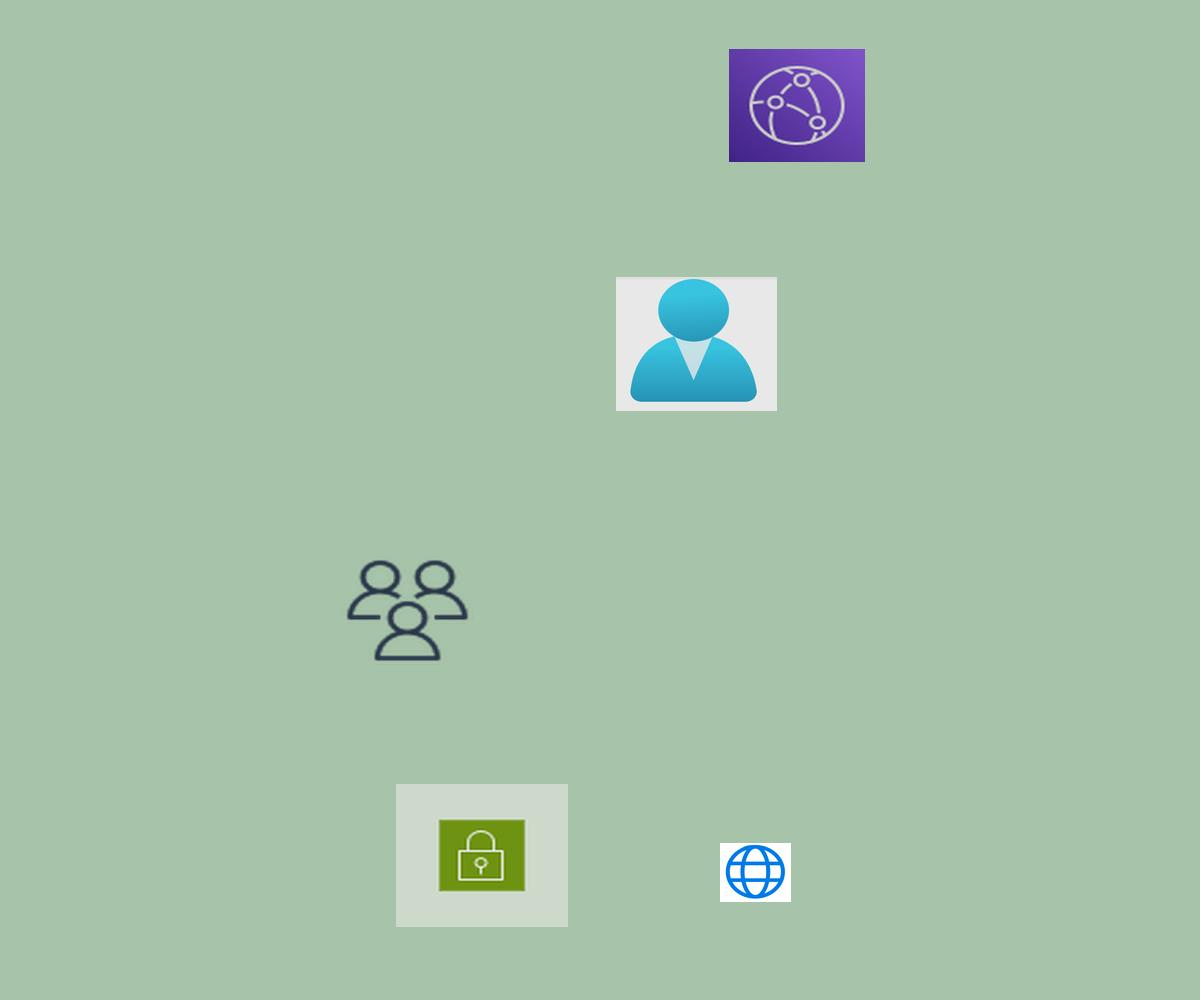AWS-CloudFront: (729, 49, 865, 162)
AWS-Public-subnet: (396, 784, 568, 927)
AWS-Res_Users: (342, 556, 473, 665)
Azure_http: (720, 843, 791, 902)
Azure_users: (616, 277, 777, 411)
